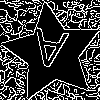A: (27, 28, 69, 79)
